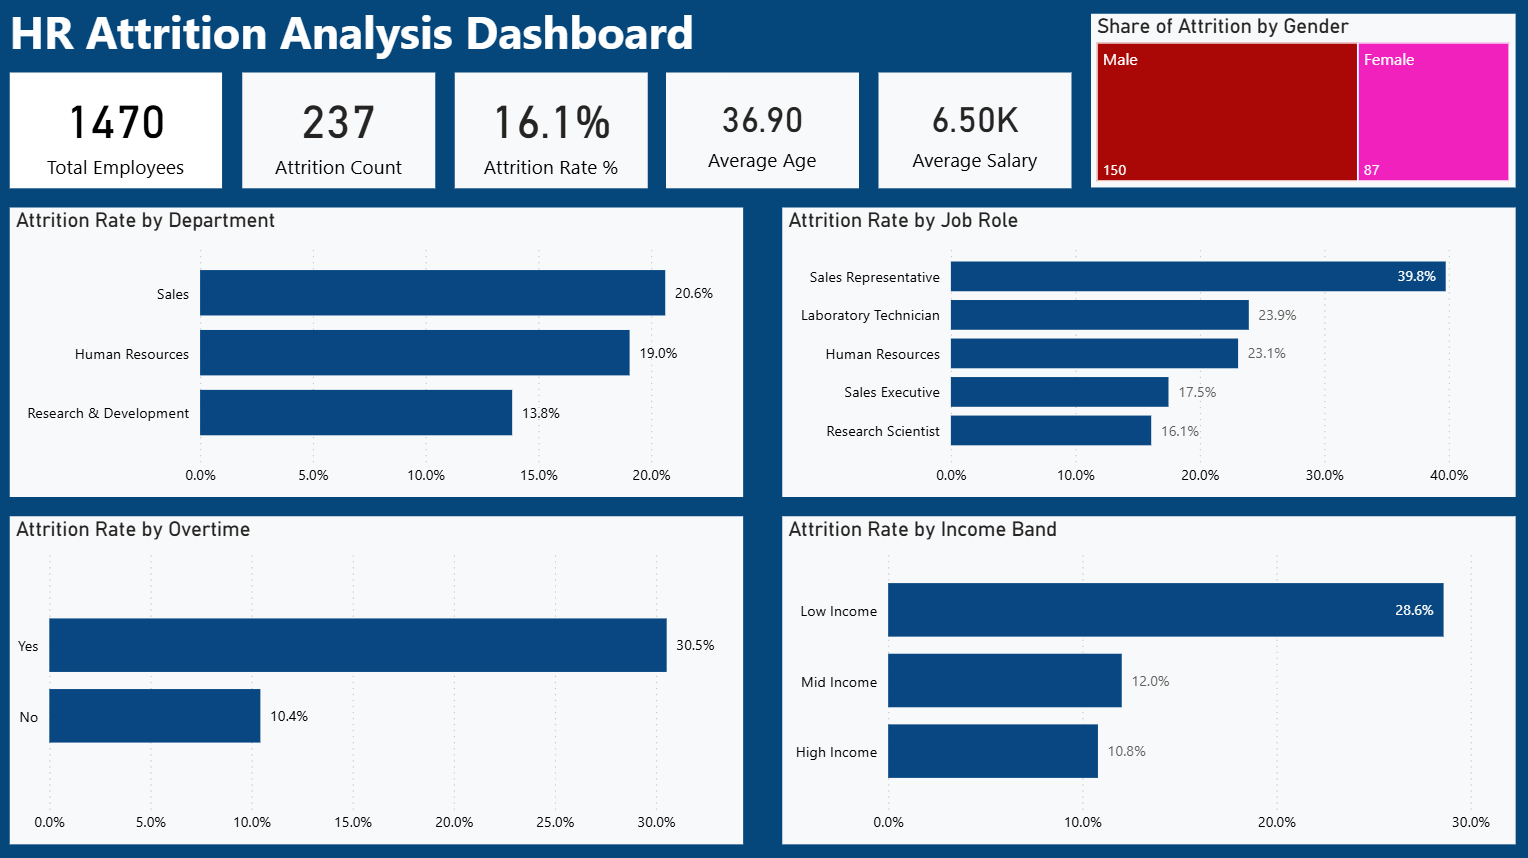

The page's visual inventory and layout, read from the dashboard file:
{"tool":"powerbi","page":{"name":"Page 1","canvas":[1280,720],"ordinal":0},"visuals":[{"type":"textbox","box":[0,0,608,64],"z":0},{"type":"card","fields":{"Values":["hr_attrition.Total Employees"]},"box":[16,64,176,96],"z":1000},{"type":"card","fields":{"Values":["hr_attrition.Attrition Count"]},"box":[208,64,160,96],"z":2000},{"type":"card","fields":{"Values":["hr_attrition.Attrition Rate %"]},"box":[384,64,160,96],"z":3000},{"type":"clusteredBarChart","title":"Attrition Rate by Department","fields":{"Category":["hr_attrition.department"],"Y":["hr_attrition.Attrition Rate %"]},"box":[16,176,608,240],"z":4000},{"type":"clusteredBarChart","title":"Attrition Rate by Overtime","fields":{"Category":["hr_attrition.overtime"],"Y":["hr_attrition.Attrition Rate %"]},"box":[16,432,608,272],"z":5000},{"type":"clusteredBarChart","title":"Attrition Rate by Job Role","fields":{"Category":["hr_attrition.job_role"],"Y":["hr_attrition.Attrition Rate %"]},"box":[656,176,608,240],"z":6000},{"type":"clusteredBarChart","title":"Attrition Rate by Income Band","fields":{"Y":["hr_attrition.Attrition Rate %"],"Category":["hr_attrition.Income Band"]},"box":[656,432,608,272],"z":7000},{"type":"card","fields":{"Values":["hr_attrition.Average Age"]},"box":[560,64,160,96],"z":8000},{"type":"card","fields":{"Values":["hr_attrition.Average Salary"]},"box":[736,64,160,96],"z":9000},{"type":"treemap","title":"Share of Attrition by Gender","fields":{"Values":["hr_attrition.Attrition Count"],"Group":["hr_attrition.gender"]},"box":[912,16,352,144],"z":10000}]}

Visuals, with their boxes in screenshot pixels (x1, y1, x2, y2), scaled from the page's 1280x720 canvas onto the 1528x858 screenshot:
textbox: <region>0, 0, 726, 76</region>
card - hr_attrition.Total Employees: <region>19, 76, 229, 191</region>
card - hr_attrition.Attrition Count: <region>248, 76, 439, 191</region>
card - hr_attrition.Attrition Rate %: <region>458, 76, 649, 191</region>
"Attrition Rate by Department" clusteredBarChart: <region>19, 210, 745, 496</region>
"Attrition Rate by Overtime" clusteredBarChart: <region>19, 515, 745, 839</region>
"Attrition Rate by Job Role" clusteredBarChart: <region>783, 210, 1509, 496</region>
"Attrition Rate by Income Band" clusteredBarChart: <region>783, 515, 1509, 839</region>
card - hr_attrition.Average Age: <region>668, 76, 860, 191</region>
card - hr_attrition.Average Salary: <region>879, 76, 1070, 191</region>
"Share of Attrition by Gender" treemap: <region>1089, 19, 1509, 191</region>
